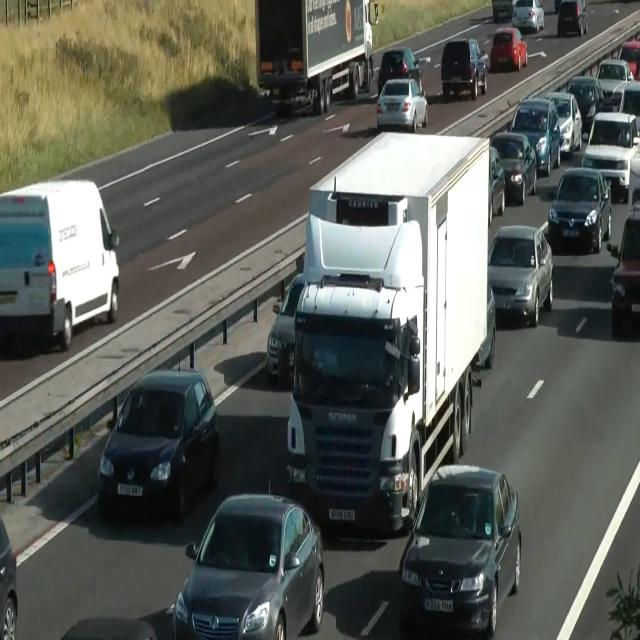bus: (172, 491, 324, 639), (398, 463, 522, 637), (97, 362, 219, 522), (488, 224, 554, 327), (548, 166, 612, 254), (581, 110, 639, 203), (265, 271, 305, 386), (610, 199, 640, 331), (489, 131, 537, 205), (376, 77, 428, 132), (540, 90, 582, 156), (377, 46, 429, 97), (564, 75, 604, 137), (60, 615, 158, 639), (0, 517, 18, 639), (596, 58, 634, 108), (476, 282, 496, 370), (490, 26, 528, 71), (488, 145, 506, 227), (618, 80, 640, 136), (556, 0, 587, 36), (511, 0, 544, 33), (617, 39, 639, 81), (492, 0, 514, 23), (554, 0, 562, 13)
jeep: (508, 97, 560, 176), (440, 38, 488, 100)
minibus: (286, 130, 494, 535), (0, 178, 120, 351), (255, 0, 378, 116)
